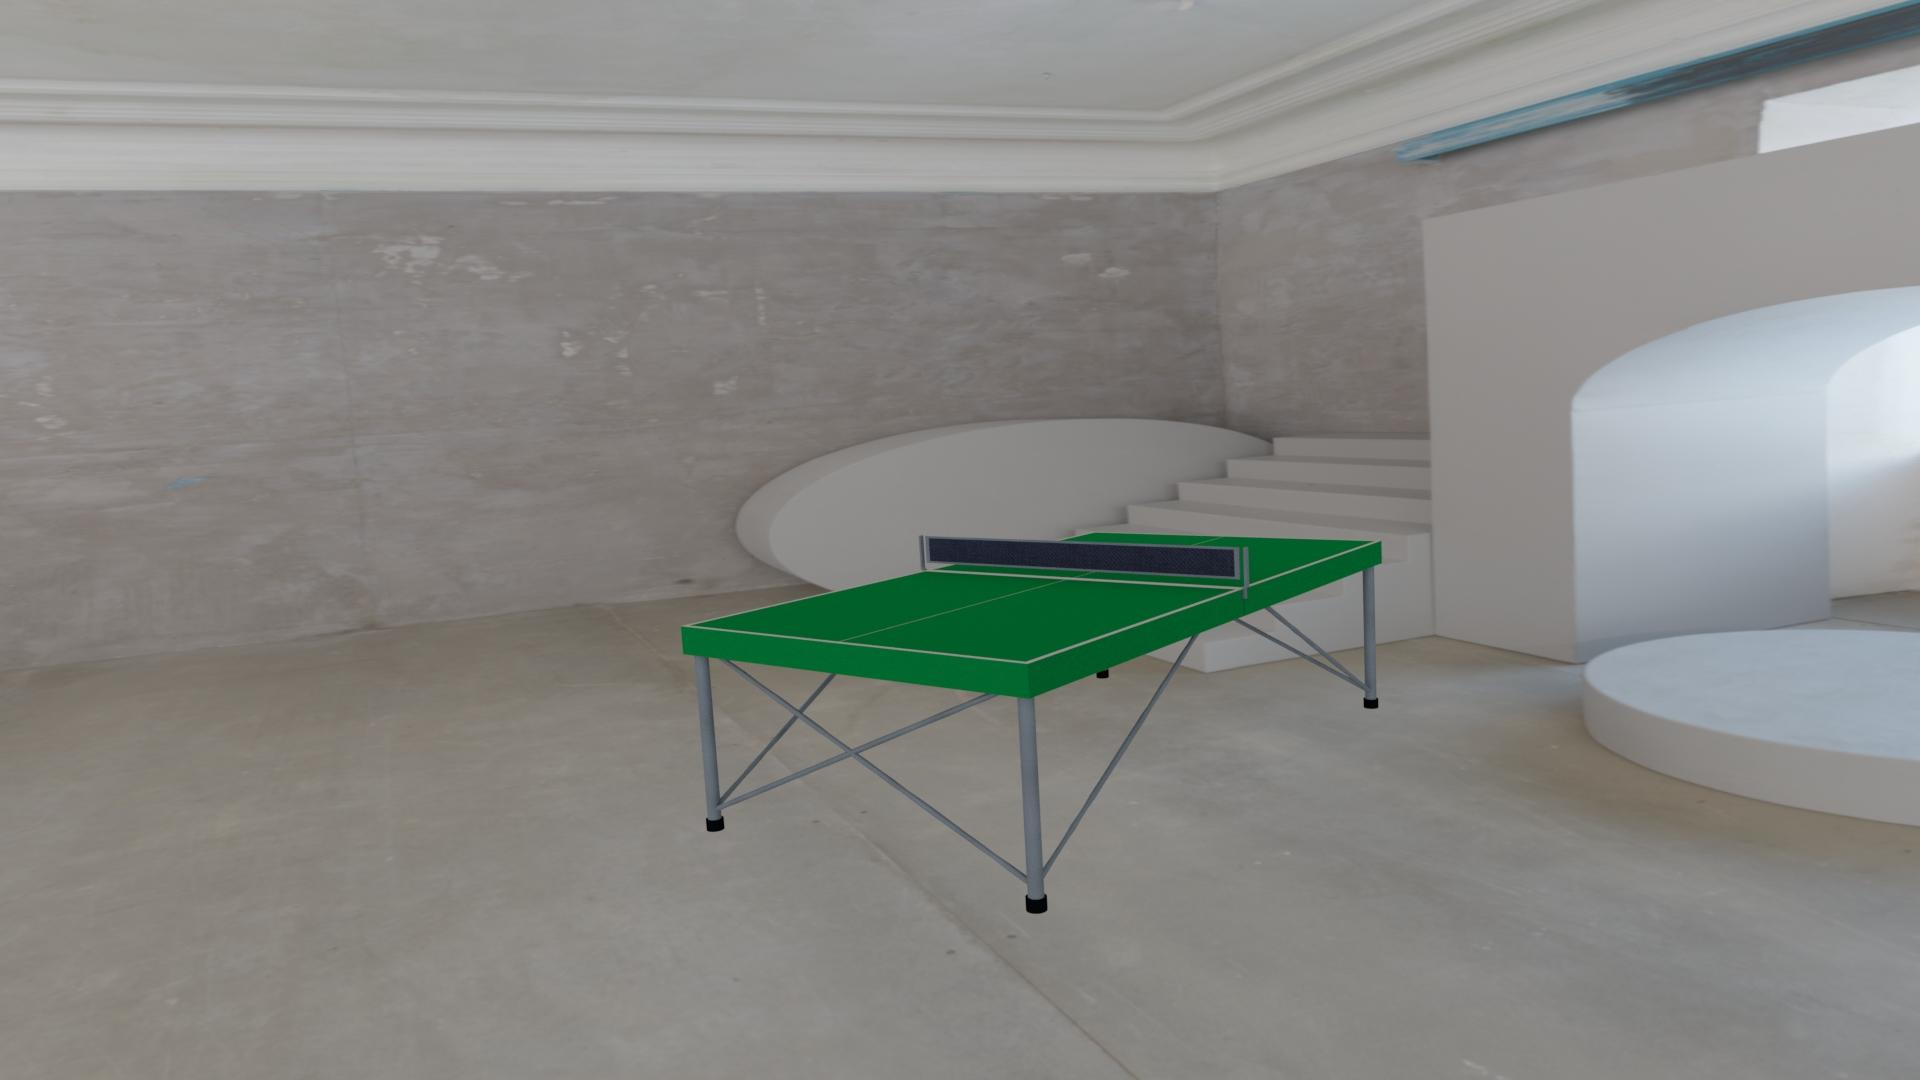table: (688, 533, 1375, 662)
